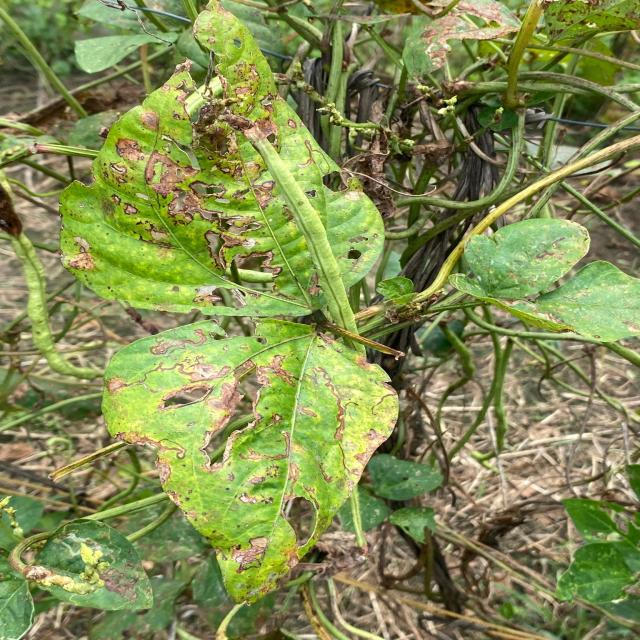leaf-moderate: (60, 0, 393, 317), (102, 319, 398, 603), (0, 517, 153, 640), (556, 499, 640, 621), (402, 0, 521, 78), (543, 0, 640, 46), (528, 0, 543, 35)
sitaw-aphid-low: (449, 219, 640, 342)
sitaw-aphid-moderate: (0, 169, 25, 260), (0, 145, 30, 168), (8, 313, 27, 332)
sitaw-moderate: (437, 135, 640, 287), (580, 111, 640, 155)
